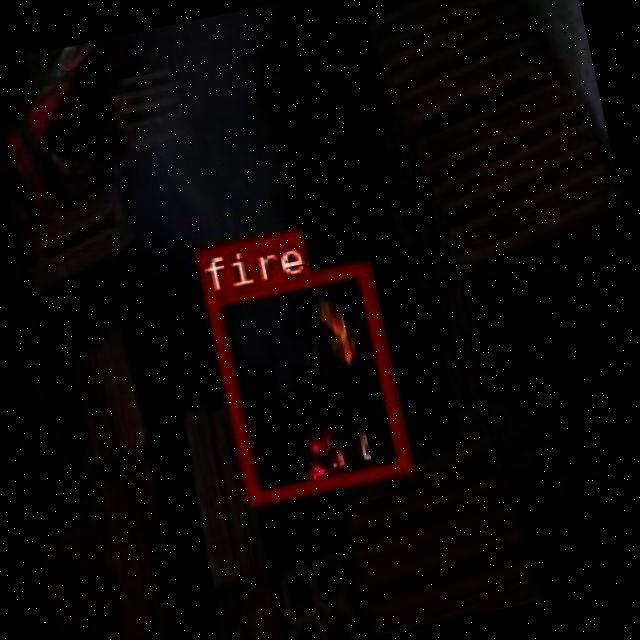fire: (203, 260, 408, 504)
